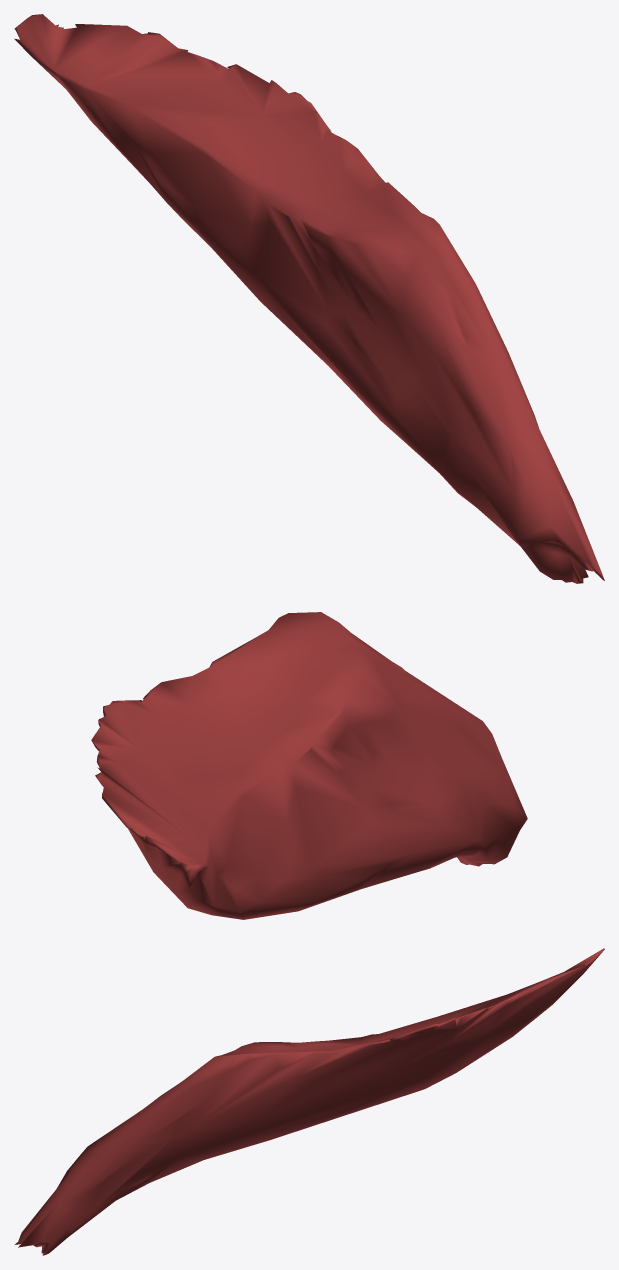
File: obliquus-superior-capitis-muscle-l.glb
3 renders of one model, top to bottom at view 1: azimuth 30°, elevation 25°; view 2: azimuth 150°, elevation 25°; view 3: azimuth 270°, elevation 25°, orthographic. The views are drawn at different scales.
Parts seen in each view (by area): view 1: Obliquus superior capitis muscle.l; view 2: Obliquus superior capitis muscle.l; view 3: Obliquus superior capitis muscle.l.
Boxes of the visible parts, x1=… form: Obliquus superior capitis muscle.l: x1=14, y1=14, x2=604, y2=583; Obliquus superior capitis muscle.l: x1=91, y1=612, x2=527, y2=919; Obliquus superior capitis muscle.l: x1=14, y1=948, x2=604, y2=1255.
Bounding box in the file's own units: 0.0143 × 0.0229 × 0.0498.
